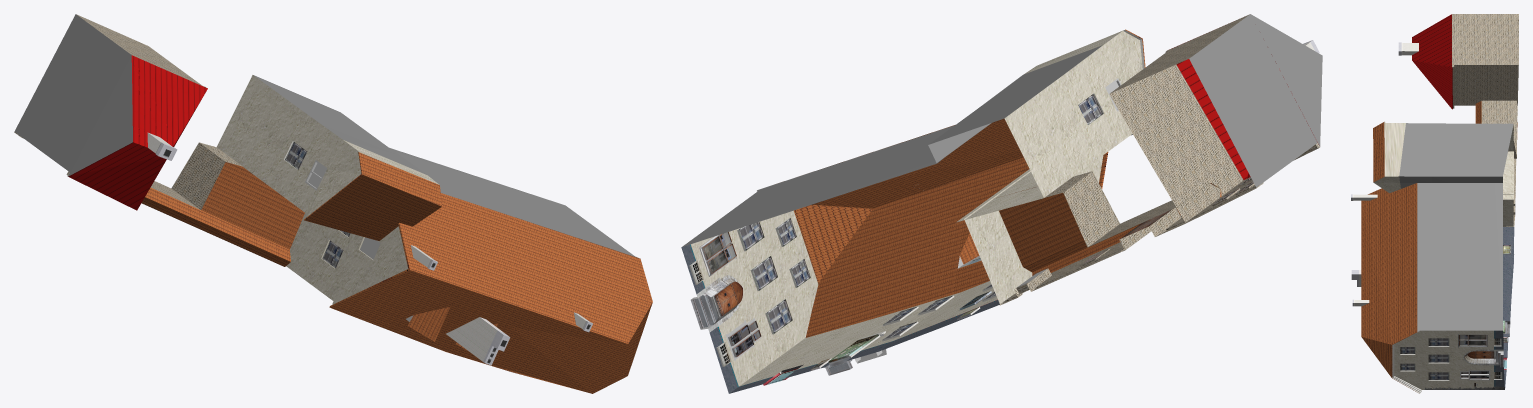
The model's file is Pikk-45.obj.
3 views of the same model, side by side, from view 1: azimuth 30°, elevation 25°; view 2: azimuth 150°, elevation 25°; view 3: azimuth 270°, elevation 25° (orthographic). The views are drawn at different scales.
Parts seen in each view (by area): view 1: Pikk_45; view 2: Pikk_45; view 3: Pikk_45.
Part boxes in pixels (x1,y1,x2,y2): Pikk_45: [14, 14, 652, 393]; Pikk_45: [681, 14, 1322, 393]; Pikk_45: [1351, 14, 1518, 393].
Bounding box in the file's own units: 41.37 × 30.93 × 18.53.
